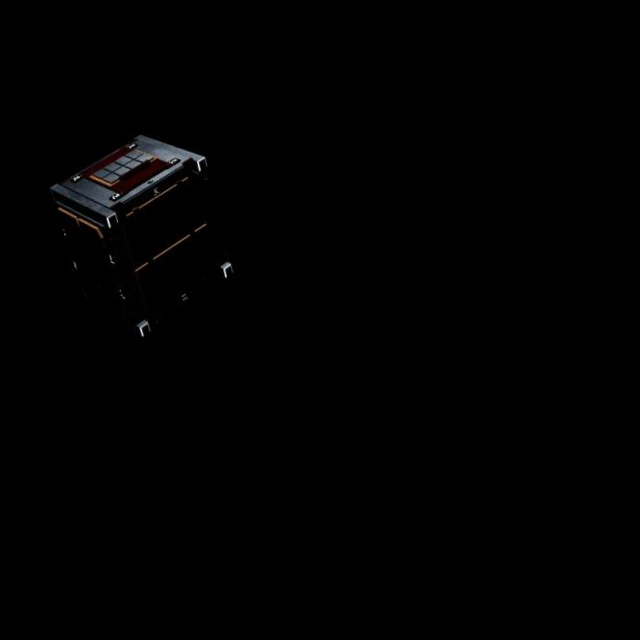satellite: (31, 123, 250, 353)
